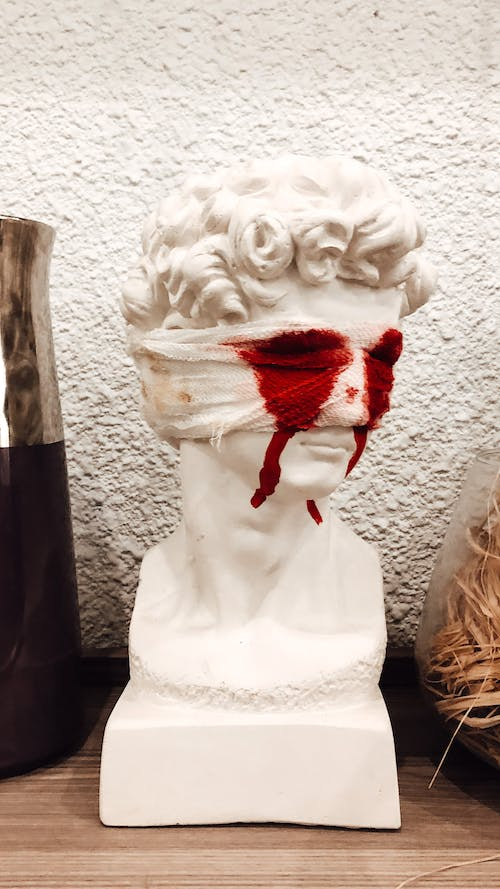blood: (209, 318, 405, 530)
